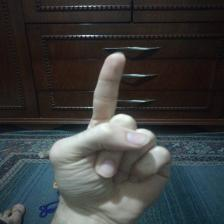one: (32, 44, 176, 224)
